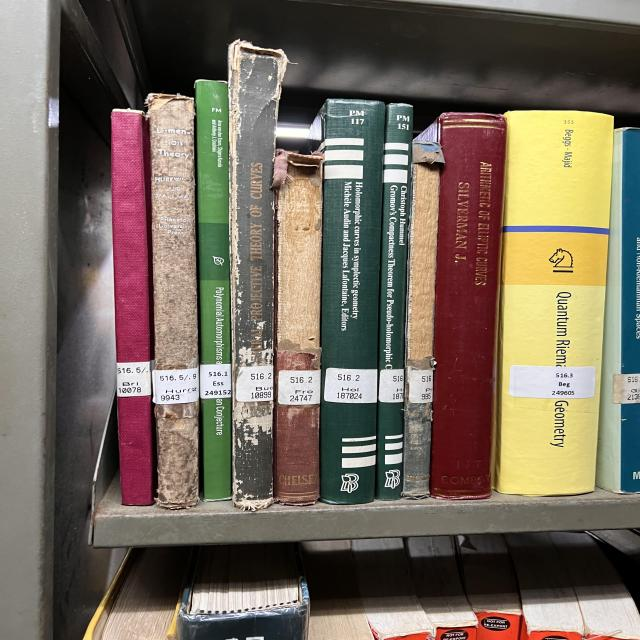Book: (495, 111, 613, 496), (417, 112, 507, 500), (228, 41, 287, 511), (320, 99, 385, 504), (147, 94, 200, 509), (272, 150, 323, 505), (112, 109, 155, 505), (597, 128, 640, 494), (195, 80, 232, 500), (402, 140, 443, 499), (375, 104, 412, 500)
Label: (508, 365, 597, 399), (323, 368, 377, 404), (152, 368, 198, 405), (277, 370, 320, 405), (235, 365, 273, 402), (117, 361, 152, 398), (200, 364, 232, 399), (408, 369, 433, 404), (612, 374, 640, 404), (378, 369, 403, 402)
